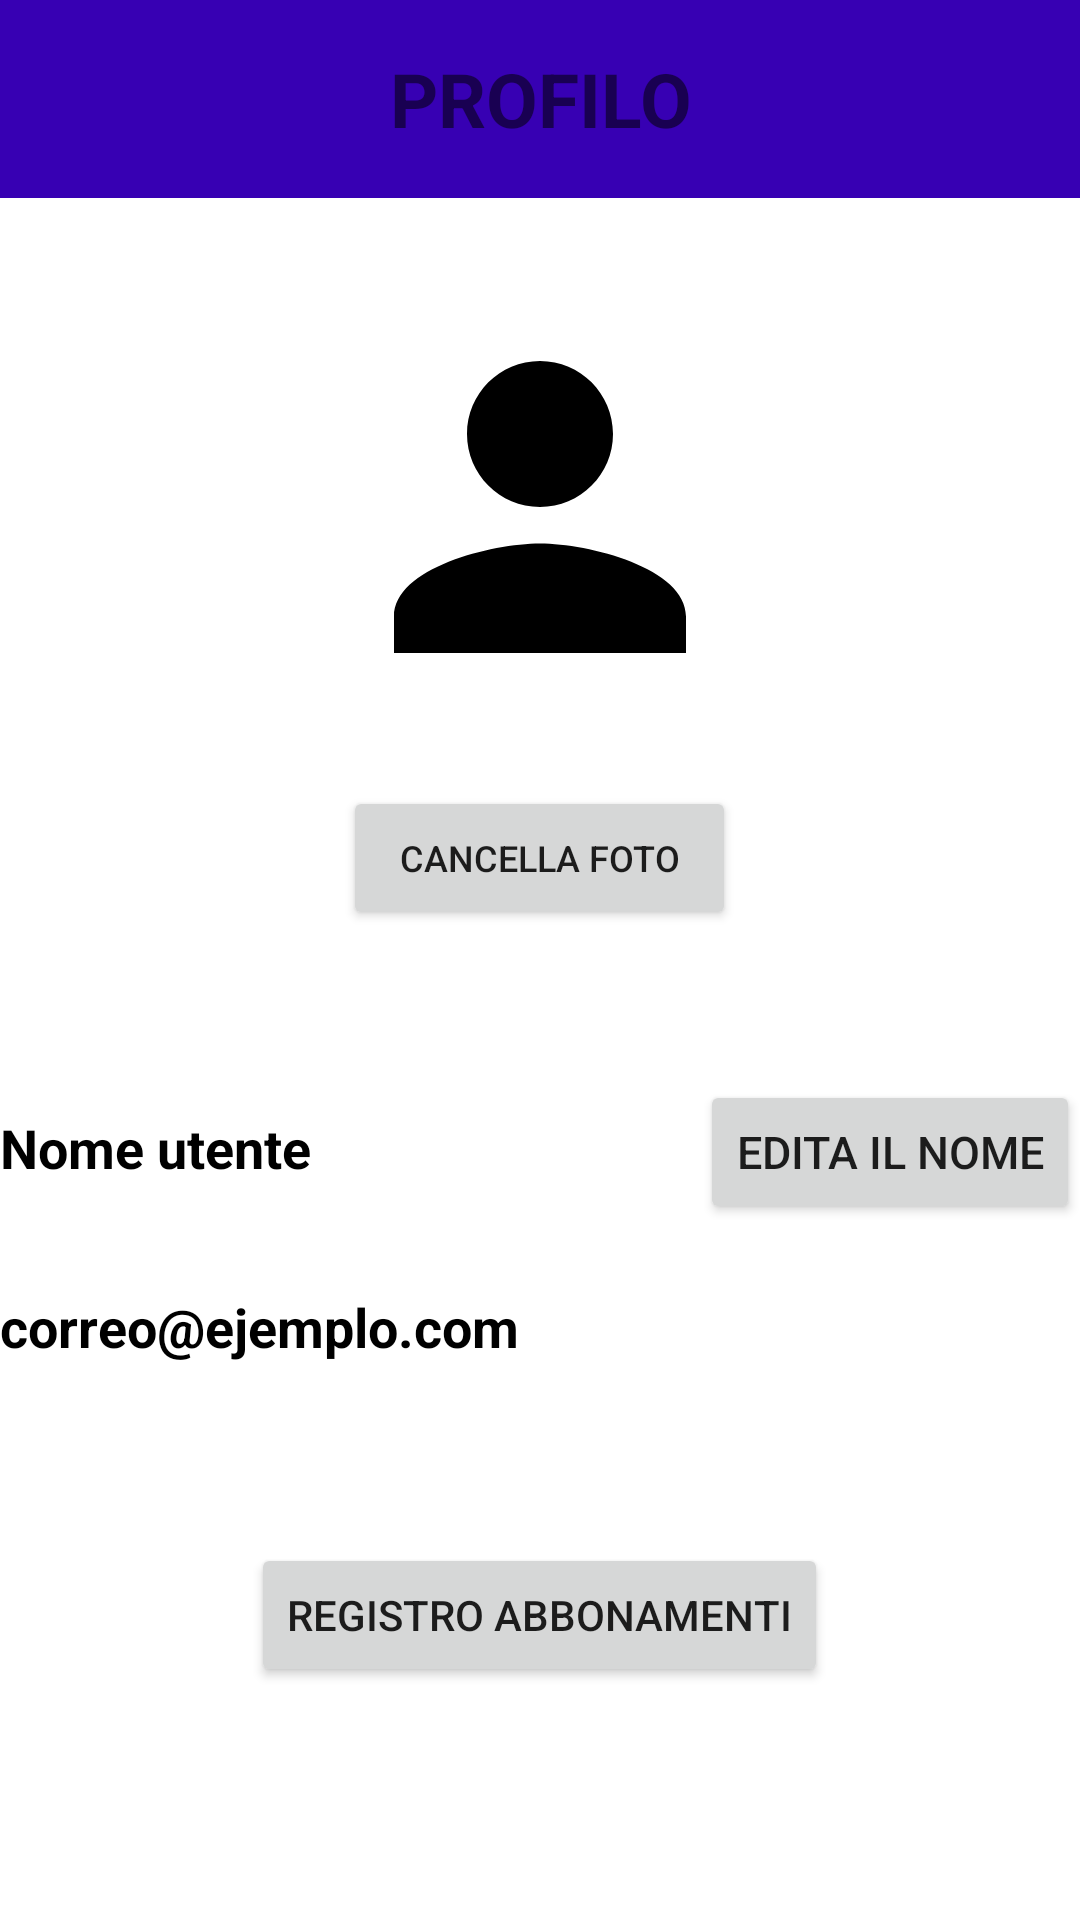

Icon click points for this 1080x1920 phone screenshot, format point (x, y):
perfil: point (540, 507)
